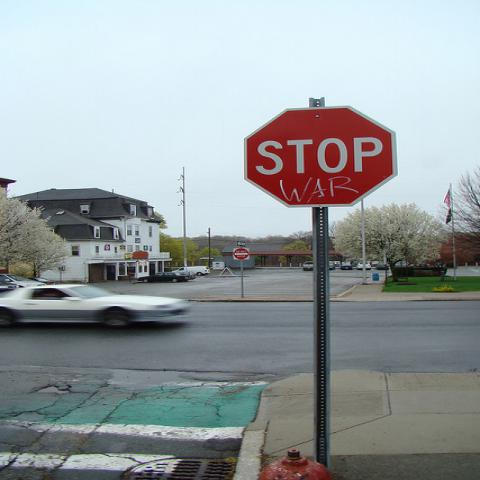car: (0, 283, 195, 329), (394, 262, 447, 276), (0, 274, 47, 288), (138, 271, 196, 282), (173, 266, 211, 276), (24, 276, 63, 285), (300, 260, 314, 270), (356, 262, 372, 270), (376, 263, 389, 270), (429, 263, 447, 268), (340, 263, 352, 270), (330, 260, 336, 270)
